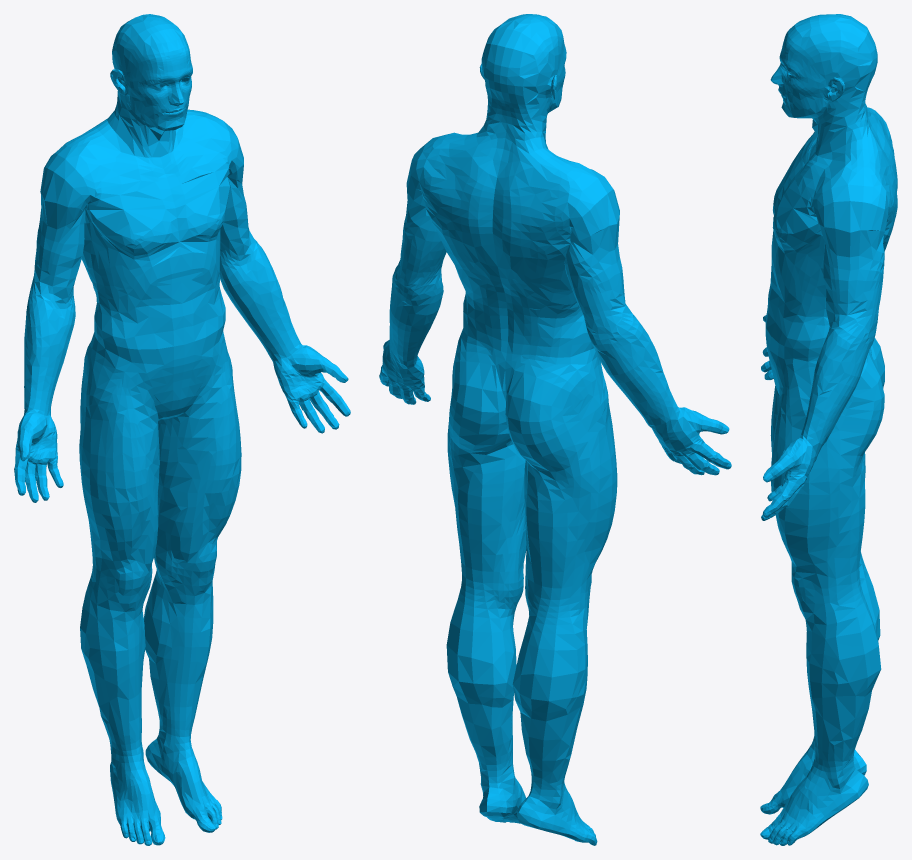
File: polySurface7686_Male.fbx
3 views of the same model, side by side, from view 1: azimuth 30°, elevation 25°; view 2: azimuth 150°, elevation 25°; view 3: azimuth 270°, elevation 25° (orthographic). The views are drawn at different scales.
Visible parts, largest first — view 1: polySurface7686_Male.001; view 2: polySurface7686_Male.001; view 3: polySurface7686_Male.001.
Part boxes in pixels (x1,y1,x2,y2): polySurface7686_Male.001: (14, 14, 350, 845); polySurface7686_Male.001: (379, 14, 731, 845); polySurface7686_Male.001: (760, 14, 897, 845).
Bounding box in the file's own units: 844 × 1937 × 298.
